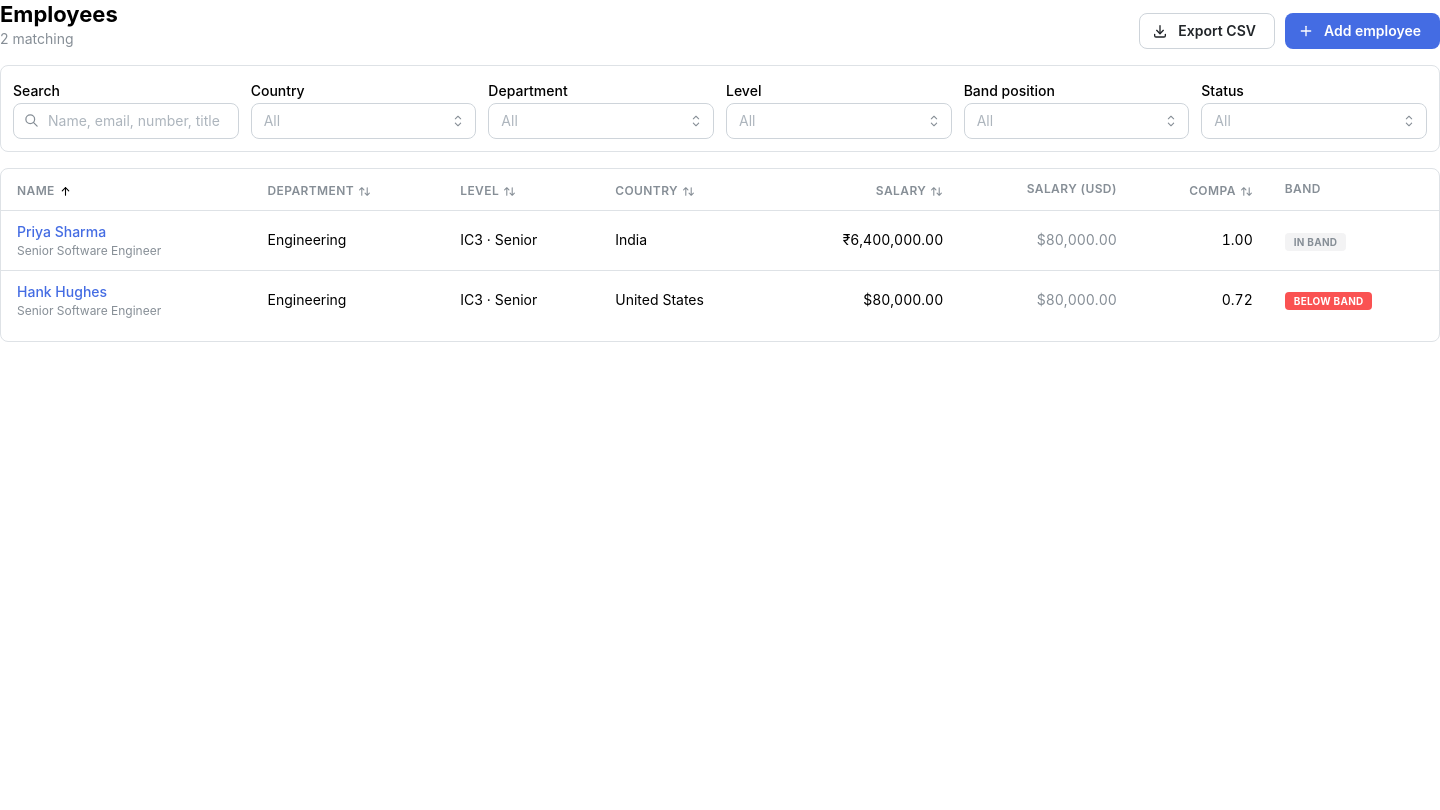
Test: the employee directory page › opens the add-employee form
Step 1. Click the button "Add employee" → [1362, 31], box [1285, 13, 1439, 49]
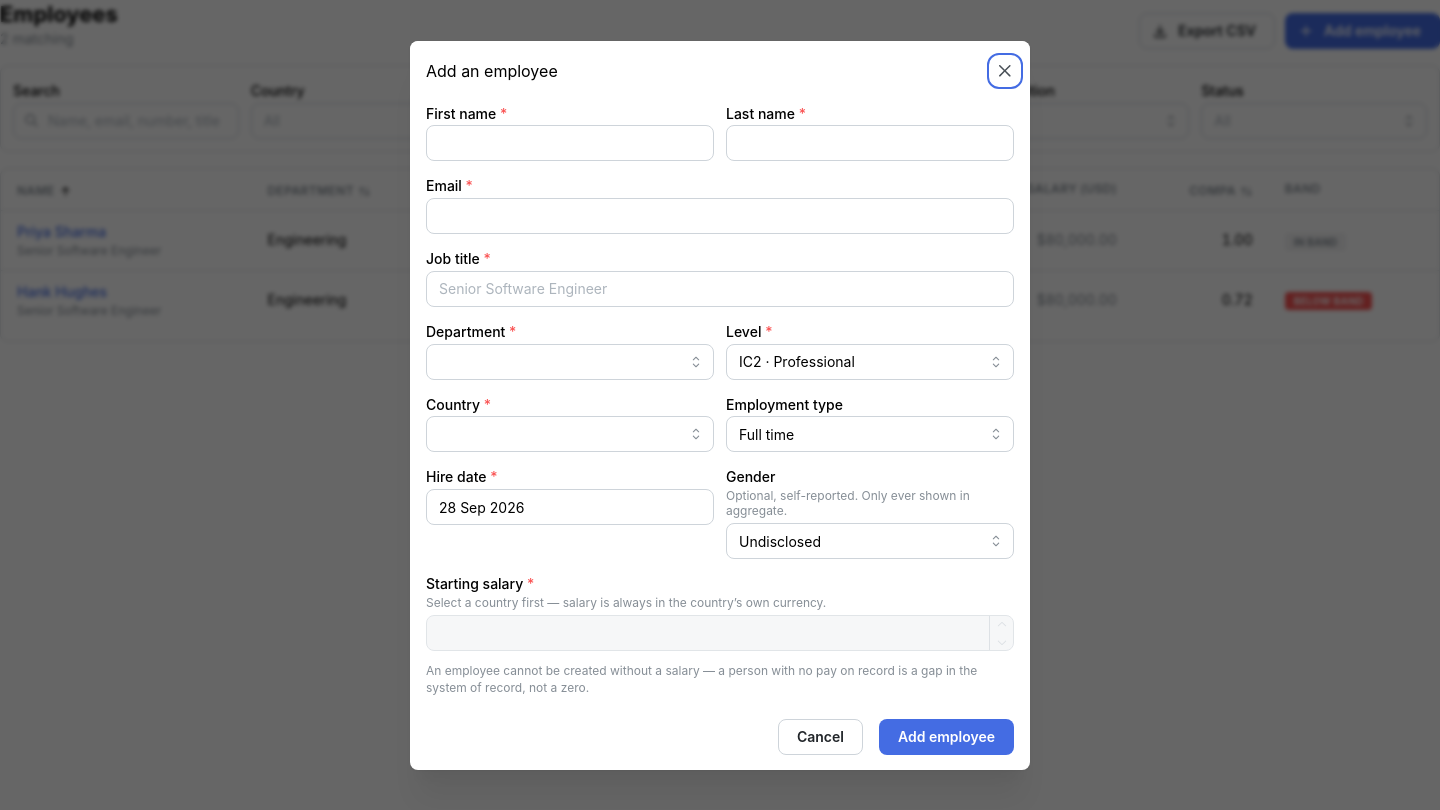
expect the heading "Add an employee" is shown: met, box [426, 62, 558, 78]
expect the text "An employee cannot be created without a salary" is shown: met, box [426, 663, 977, 695]
